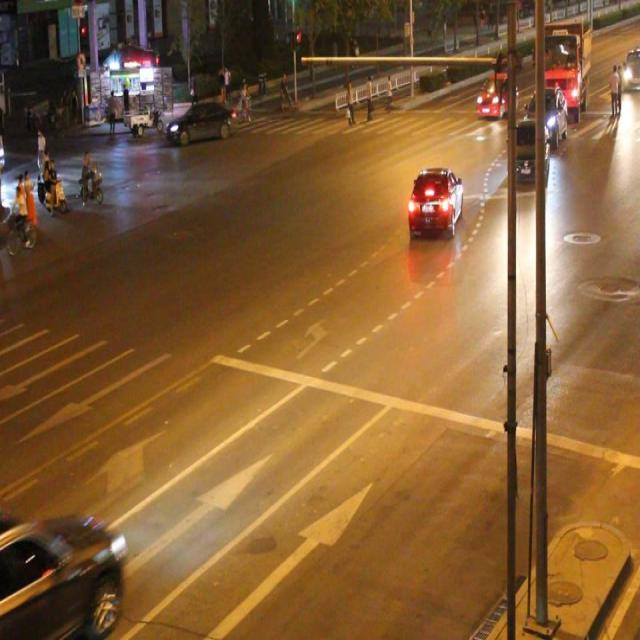car: (0, 509, 123, 640), (405, 163, 462, 238), (508, 119, 546, 184)
